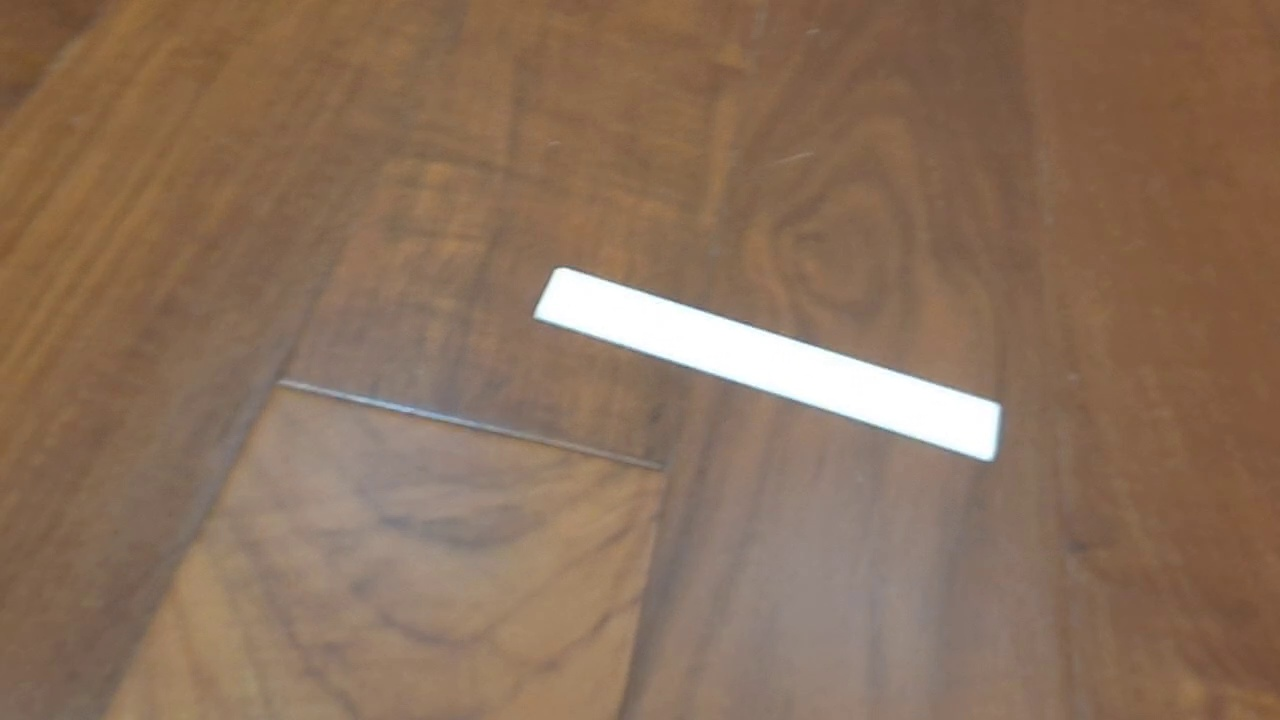ruler: (531, 265, 1004, 466)
